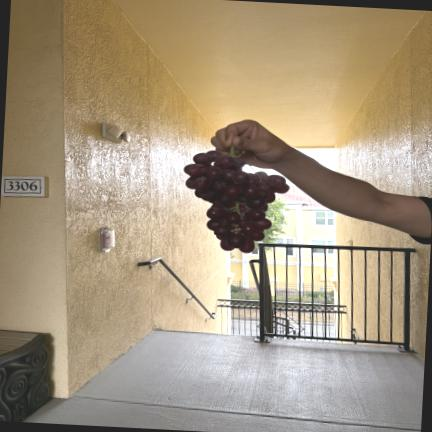grape_cluster: (184, 145, 289, 253)
